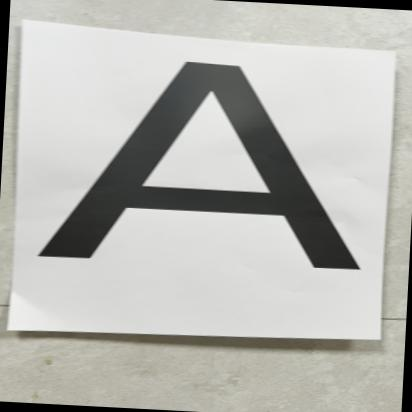seat: (12, 44, 378, 276)
